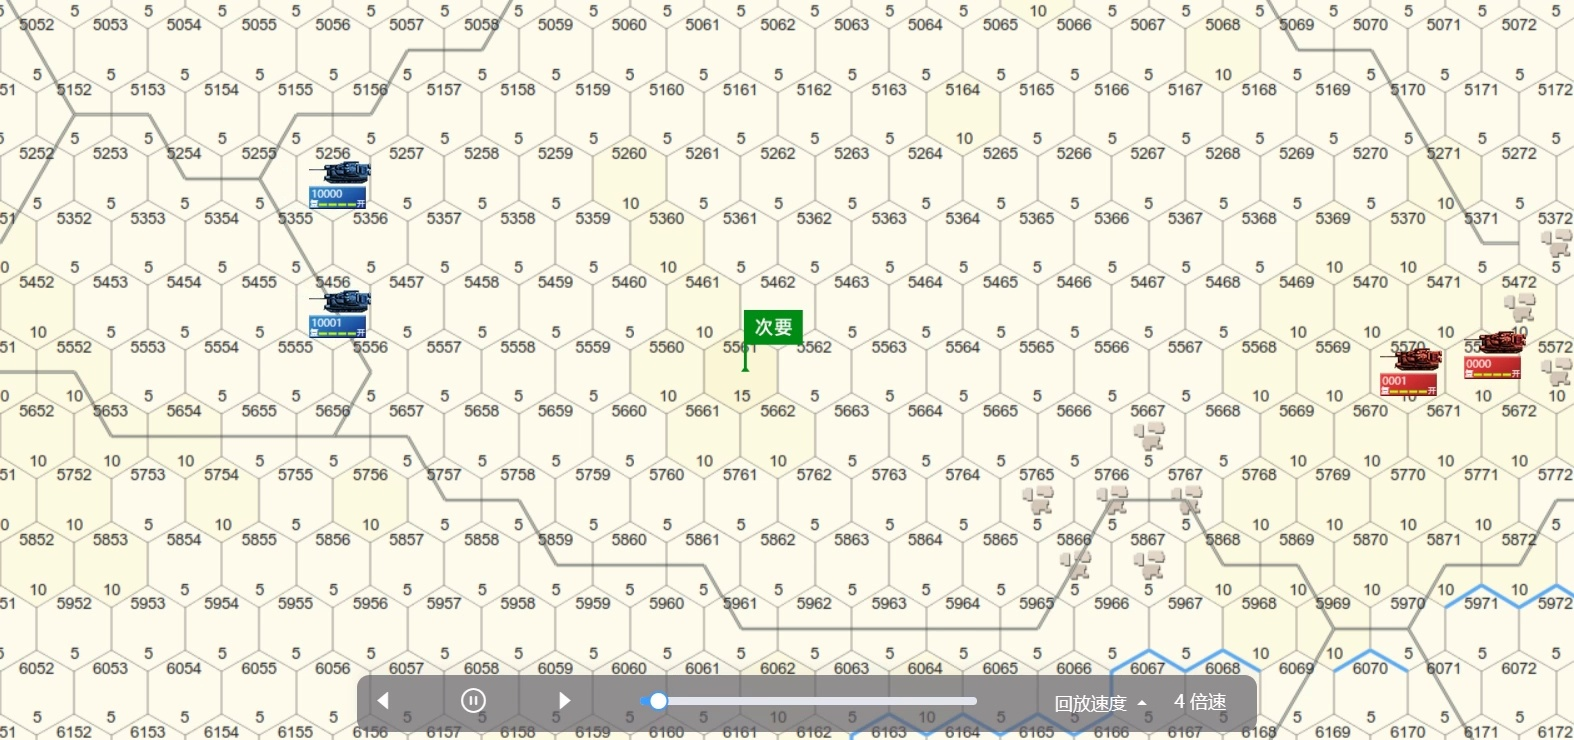blue_tank: (309, 287, 372, 340), (318, 155, 370, 215)
red_tank: (1465, 328, 1524, 380), (1381, 351, 1447, 398)
